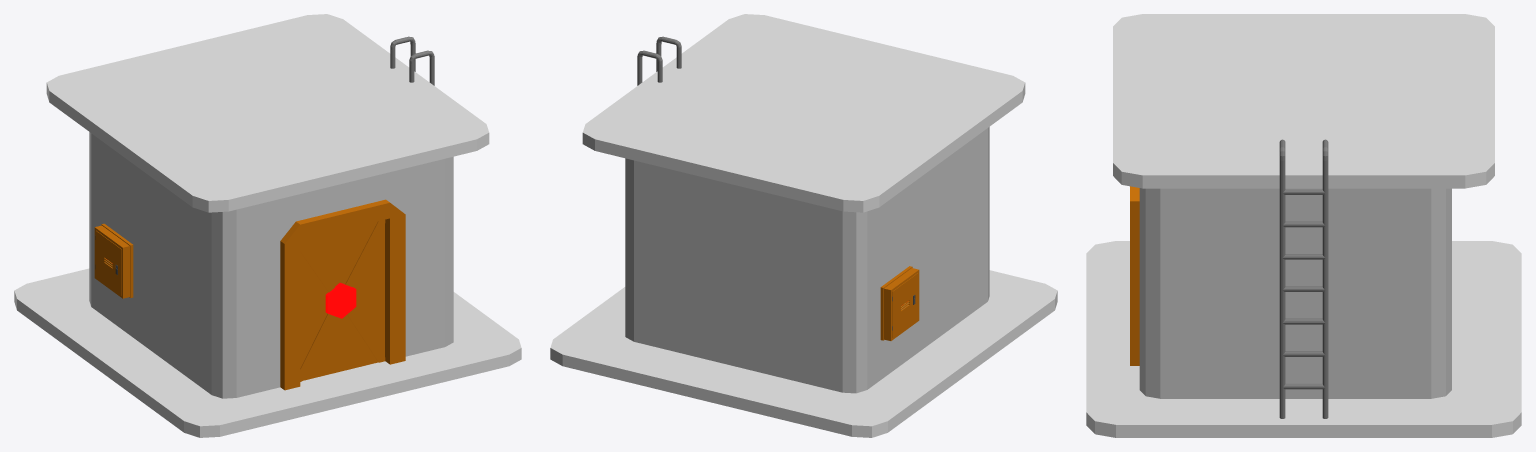
The model's file is Outpost.fbx.
3 views of the same model, side by side, from view 1: azimuth 30°, elevation 25°; view 2: azimuth 150°, elevation 25°; view 3: azimuth 270°, elevation 25° (orthographic). The views are drawn at different scales.
Visible parts, largest first — view 1: Roof, Walls, Foundation, Main Door, Left Door, Right Door, Power Box Door, Power Box, Door Indicator, Ladder; view 2: Walls, Roof, Foundation, Power Box, Power Box Door, Ladder; view 3: Roof, Walls, Foundation, Ladder, Main Door.
Boxes of the visible parts, x1,y1,x2,y2 form: Roof: (46,14,489,212); Walls: (89,132,453,398); Foundation: (14,268,521,437); Main Door: (280,199,405,390); Left Door: (340,219,385,371); Right Door: (300,230,339,381); Power Box Door: (95,230,121,295); Power Box: (94,223,133,298); Door Indicator: (325,282,356,318); Ladder: (390,36,434,85); Walls: (625,127,989,393); Roof: (582,14,1025,212); Foundation: (550,270,1057,437); Power Box: (880,266,919,340); Power Box Door: (892,273,917,337); Ladder: (637,36,681,85); Roof: (1113,14,1494,188); Walls: (1139,188,1451,398); Foundation: (1086,241,1521,437); Ladder: (1279,139,1328,418); Main Door: (1130,186,1139,365).
Bounding box in the file's own units: 9.27 × 9.27 × 6.62.
